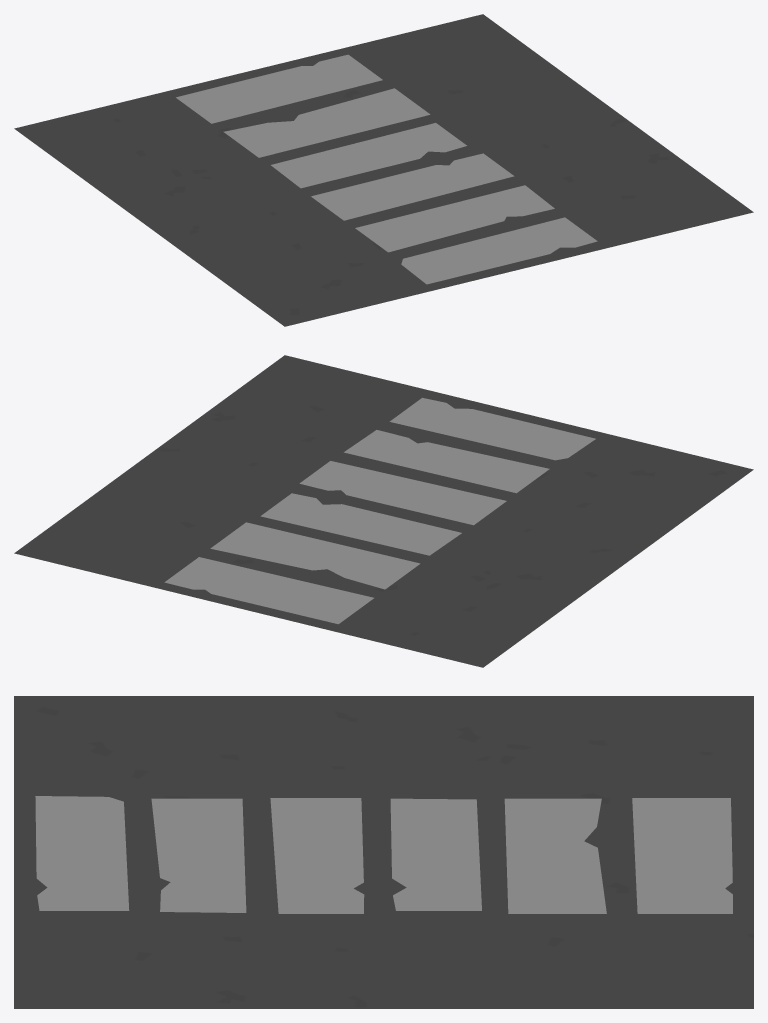
3 renders of one model, top to bottom at view 1: azimuth 30°, elevation 25°; view 2: azimuth 150°, elevation 25°; view 3: azimuth 270°, elevation 25°, orthographic. The views are drawn at different scales.
Parts seen in each view (by area): view 1: SM_Env_Road_Crossing_01_SM_Env_Road_Crossing_01_PolygonTown_; view 2: SM_Env_Road_Crossing_01_SM_Env_Road_Crossing_01_PolygonTown_; view 3: SM_Env_Road_Crossing_01_SM_Env_Road_Crossing_01_PolygonTown_.
Part boxes in pixels (bbox=[...]): SM_Env_Road_Crossing_01_SM_Env_Road_Crossing_01_PolygonTown_: bbox=[14, 14, 753, 326]; SM_Env_Road_Crossing_01_SM_Env_Road_Crossing_01_PolygonTown_: bbox=[14, 355, 753, 667]; SM_Env_Road_Crossing_01_SM_Env_Road_Crossing_01_PolygonTown_: bbox=[14, 696, 753, 1008].
Size of the model in its own units: 5 by 3.29e-07 by 5.
Materials: 1 (1 with a texture image).
